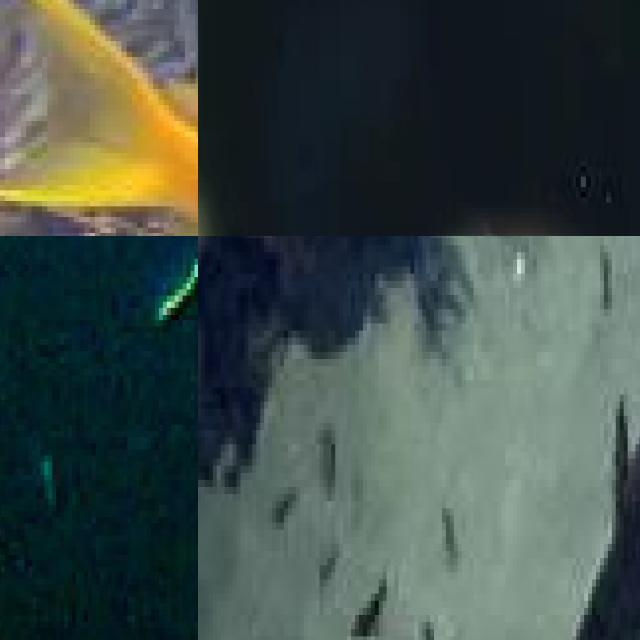fish: (0, 236, 198, 640), (0, 0, 198, 236), (552, 236, 640, 640)
